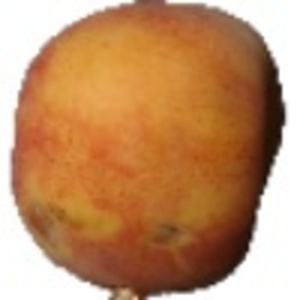pêssego: (8, 1, 286, 300)
